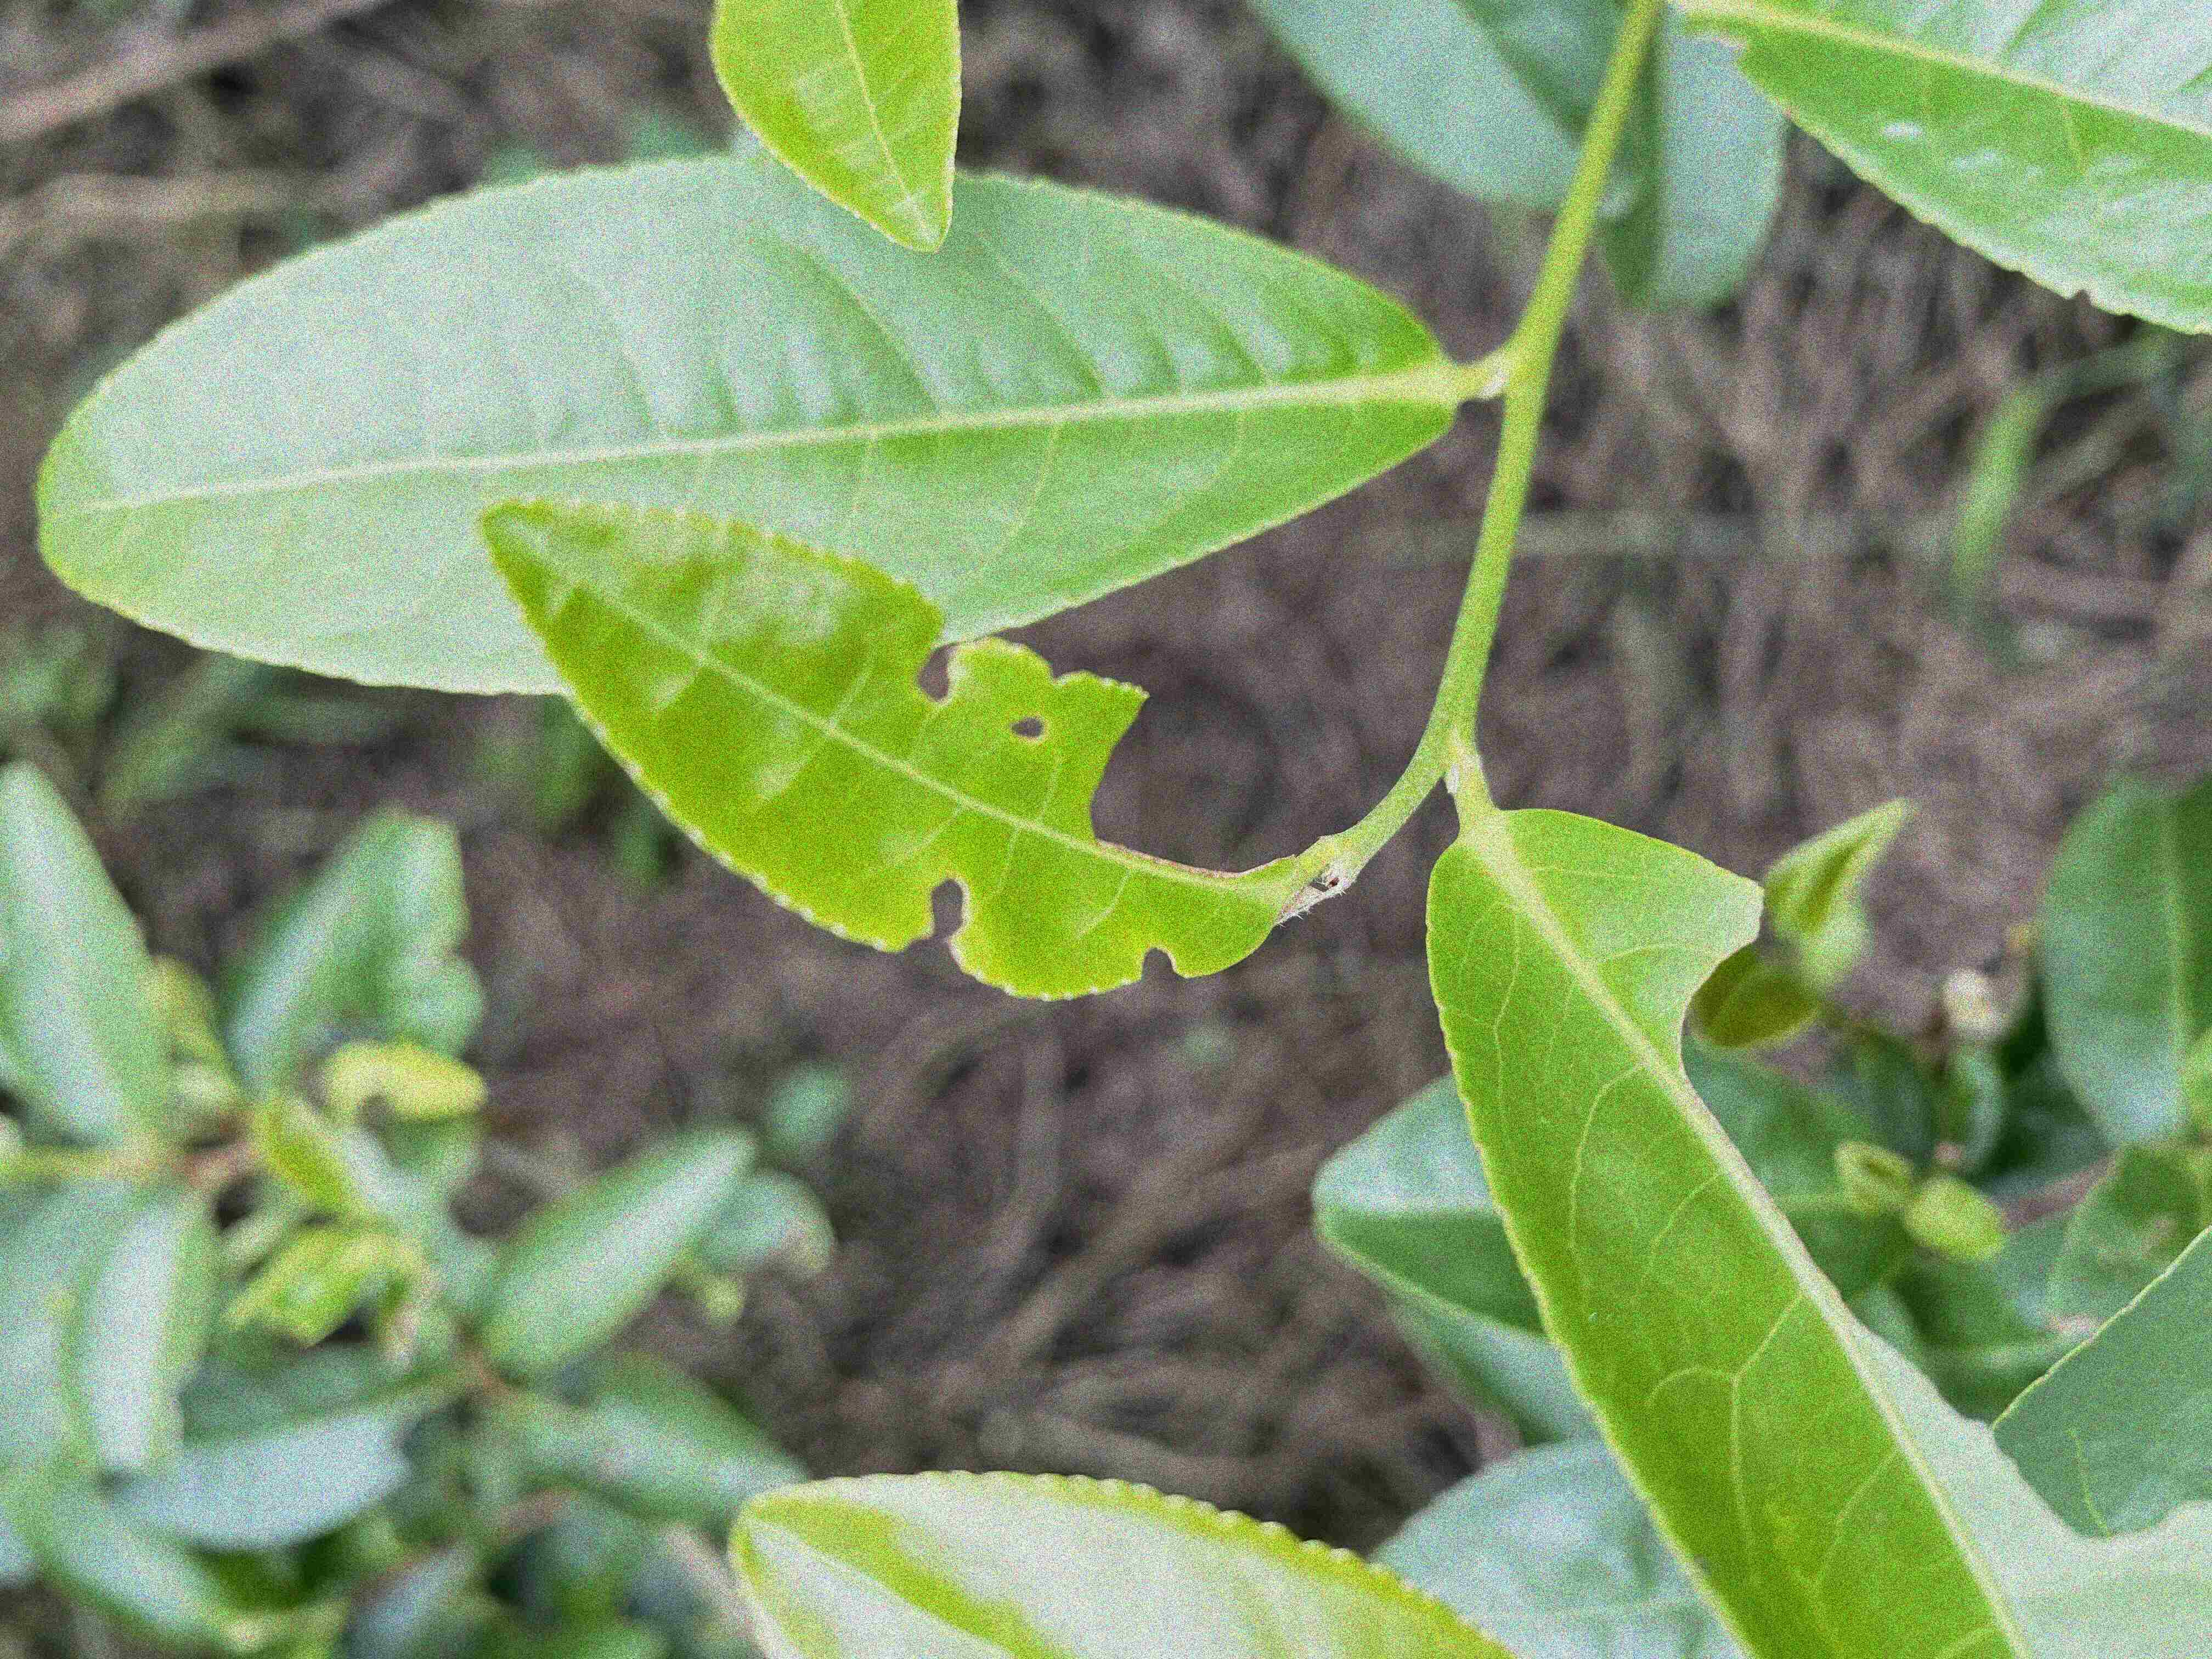chihuo_high: (1428, 805, 2209, 1656), (475, 490, 1317, 1004)
healthy: (31, 152, 1470, 701), (705, 3, 967, 253)
